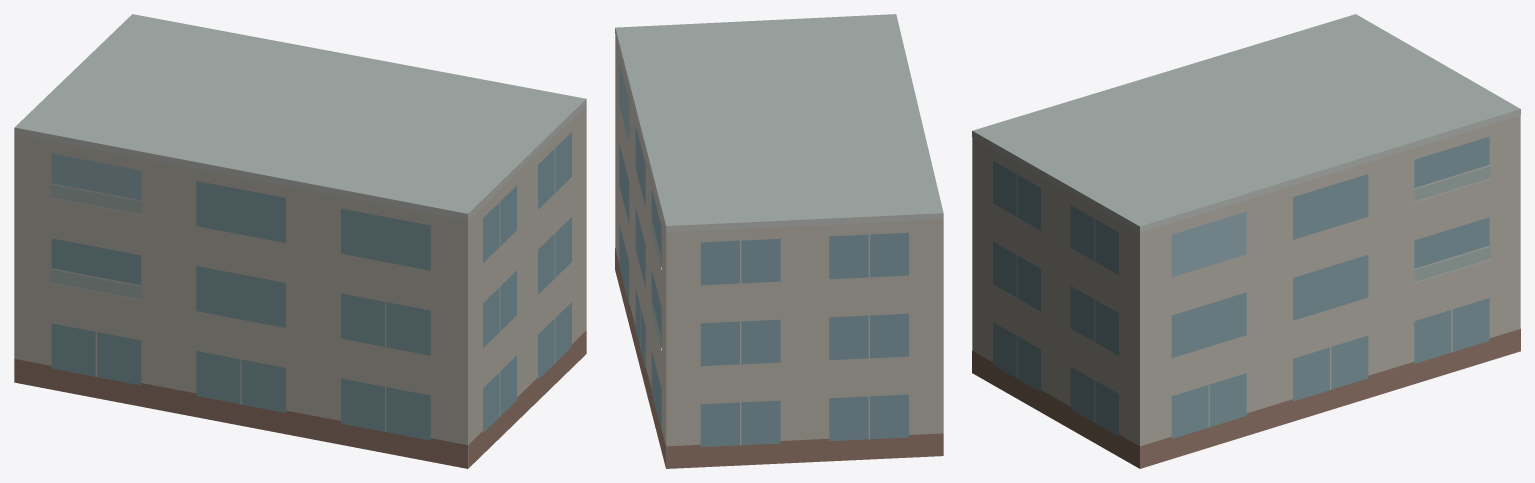
File: survey-upis-32982704.glb
The picture shows the model from 3 angles, left to right: view 1: azimuth 30°, elevation 25°; view 2: azimuth 150°, elevation 25°; view 3: azimuth 270°, elevation 25°; orthographic projection. The views are drawn at different scales.
Visible parts, largest first — view 1: survey-upis-32982704.tmp; view 2: survey-upis-32982704.tmp; view 3: survey-upis-32982704.tmp.
Part boxes in pixels (x1,y1,x2,y2): survey-upis-32982704.tmp: (14,14,586,468); survey-upis-32982704.tmp: (615,14,943,468); survey-upis-32982704.tmp: (972,14,1520,468).
Bounding box in the file's own units: 17.22 × 9.15 × 18.78.
